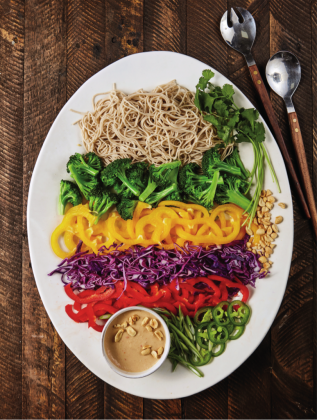Soba: (85, 83, 225, 164)
